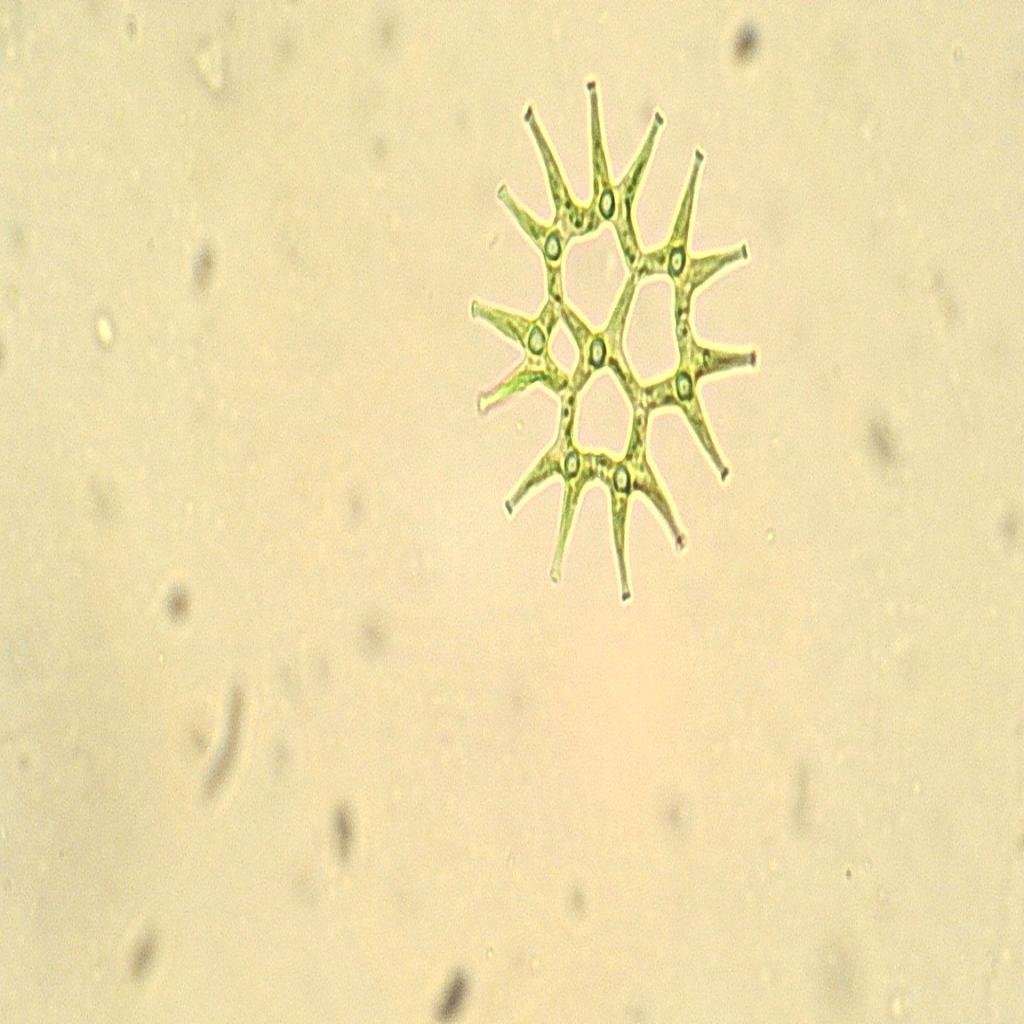Pediastrum_CTH: (457, 64, 766, 634)
